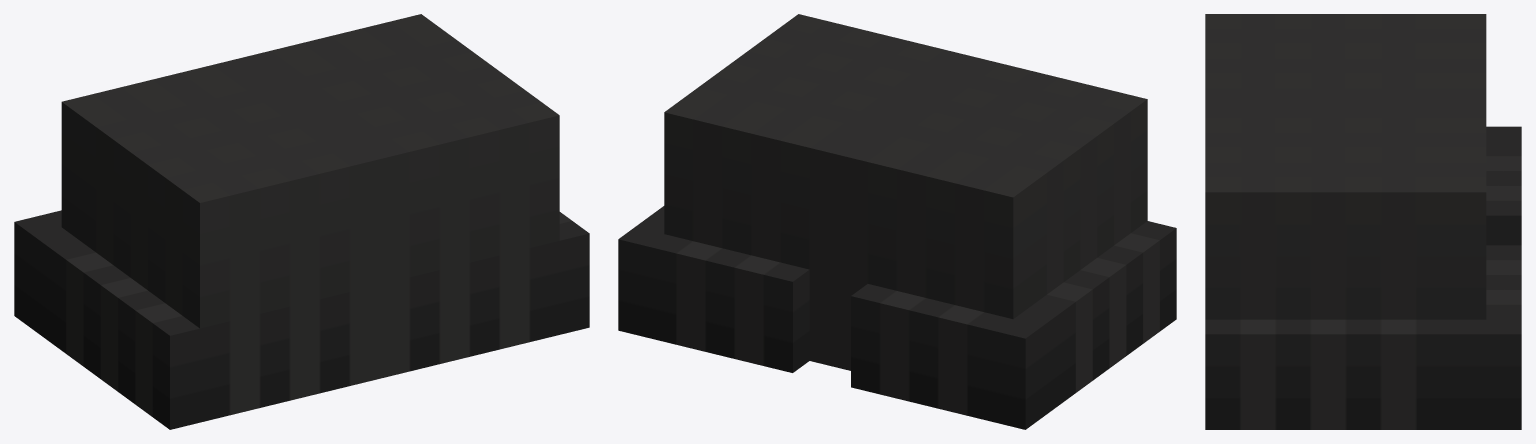
3 views of the same model, side by side, from view 1: azimuth 30°, elevation 25°; view 2: azimuth 150°, elevation 25°; view 3: azimuth 270°, elevation 25° (orthographic). The views are drawn at different scales.
Visible parts, largest first — view 1: Root056; view 2: Root056; view 3: Root056.
Part boxes in pixels (x1,y1,x2,y2): Root056: [14, 14, 589, 429]; Root056: [618, 14, 1176, 429]; Root056: [1205, 14, 1521, 429].
Bounding box in the file's own units: 14 × 7 × 9.
